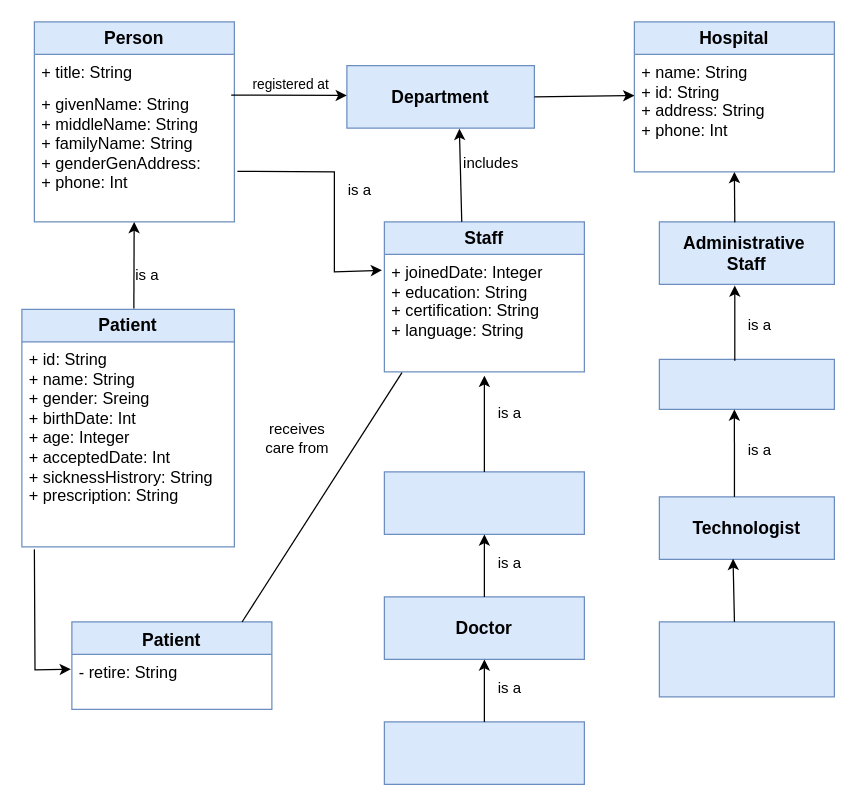
Some shapes in this 856 by 806 pixel diagram are drawn without their labels. The shapes that lost their labels are listed below. From the top down, each one's centre as x and y in pixels, then its label:
At [746,383]: "Technician".
At [483,502]: "Technical Staff".
At [746,659]: "Surgical Technologist".
At [483,752]: "Nurse".
